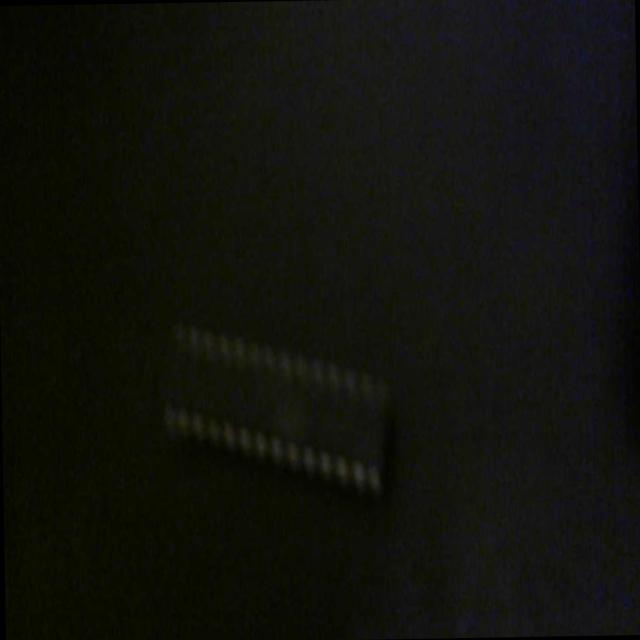atmega: (156, 304, 398, 510)
